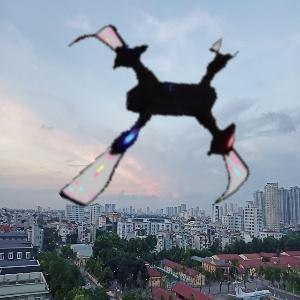drone: (36, 7, 270, 241)
